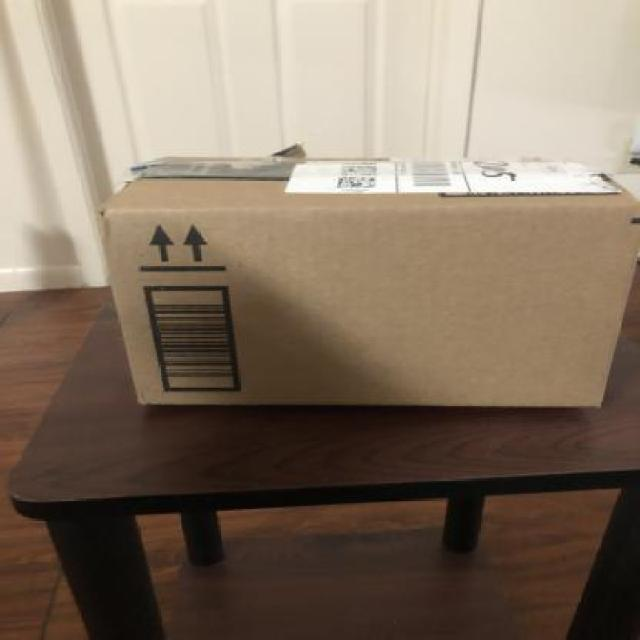cardboxes: (90, 148, 638, 418)
